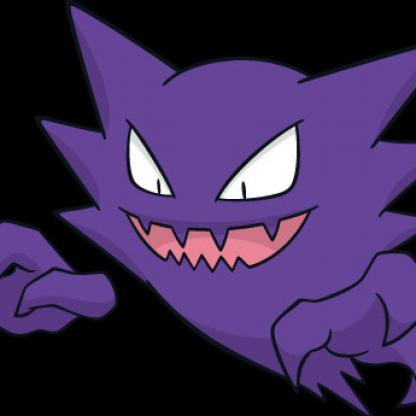Haunter: (1, 1, 416, 416)
